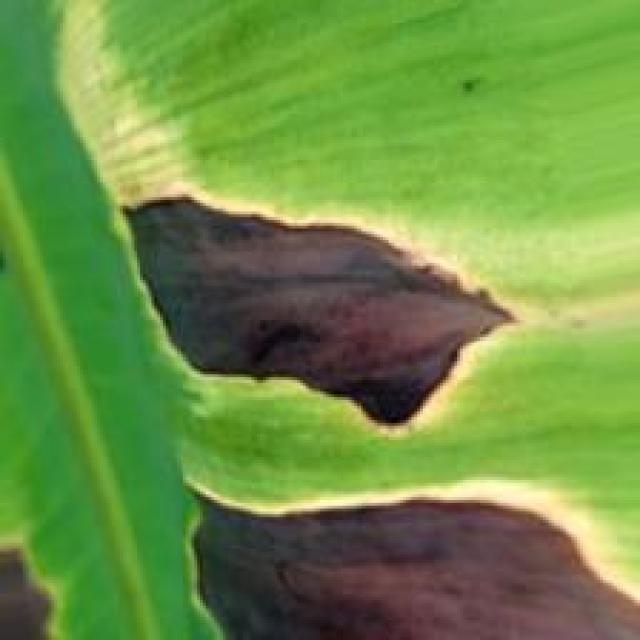Bacterial_spot: (102, 185, 522, 433), (165, 454, 640, 637), (0, 515, 72, 640)
